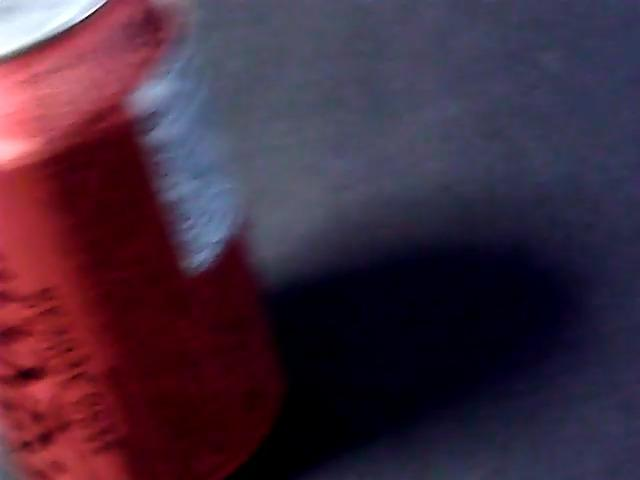coke: (4, 25, 280, 472)
